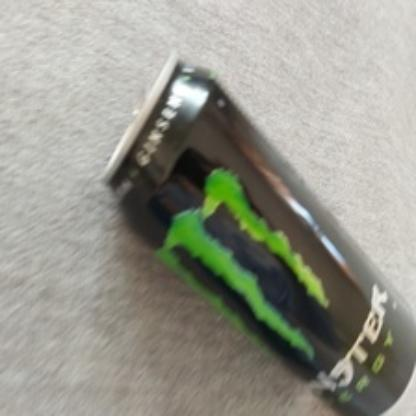Can: (101, 51, 416, 416)
